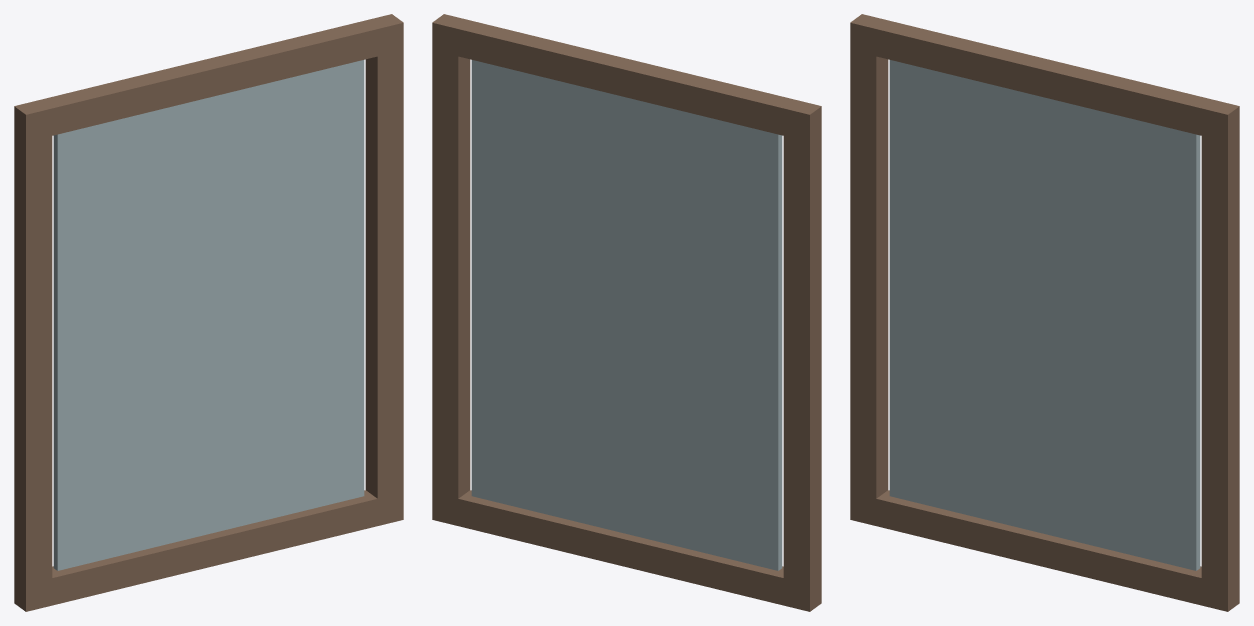
The model's file is mirror.glb.
3 renders of one model, left to right at view 1: azimuth 30°, elevation 25°; view 2: azimuth 150°, elevation 25°; view 3: azimuth 330°, elevation 25°, orthographic.
Parts seen in each view (by area): view 1: Glass, Frame_Left, Frame_Right, Frame_Top, Frame_Bottom; view 2: Glass, Frame_Left, Frame_Right, Frame_Top, Frame_Bottom; view 3: Glass, Frame_Right, Frame_Left, Frame_Top, Frame_Bottom.
Part boxes in pixels (x1,y1,x2,y2): Glass: [53, 60, 364, 570]; Frame_Left: [14, 103, 52, 611]; Frame_Right: [365, 14, 403, 525]; Frame_Top: [28, 17, 390, 138]; Frame_Bottom: [39, 490, 390, 608]; Glass: [471, 60, 782, 570]; Frame_Left: [783, 103, 821, 611]; Frame_Right: [432, 14, 470, 525]; Frame_Top: [445, 17, 807, 138]; Frame_Bottom: [445, 490, 796, 608]; Glass: [889, 60, 1200, 570]; Frame_Right: [1201, 103, 1239, 611]; Frame_Left: [850, 14, 888, 525]; Frame_Top: [863, 17, 1225, 138]; Frame_Bottom: [863, 490, 1214, 608].
Bounding box in the file's own units: 1.01 × 1.27 × 0.055.
